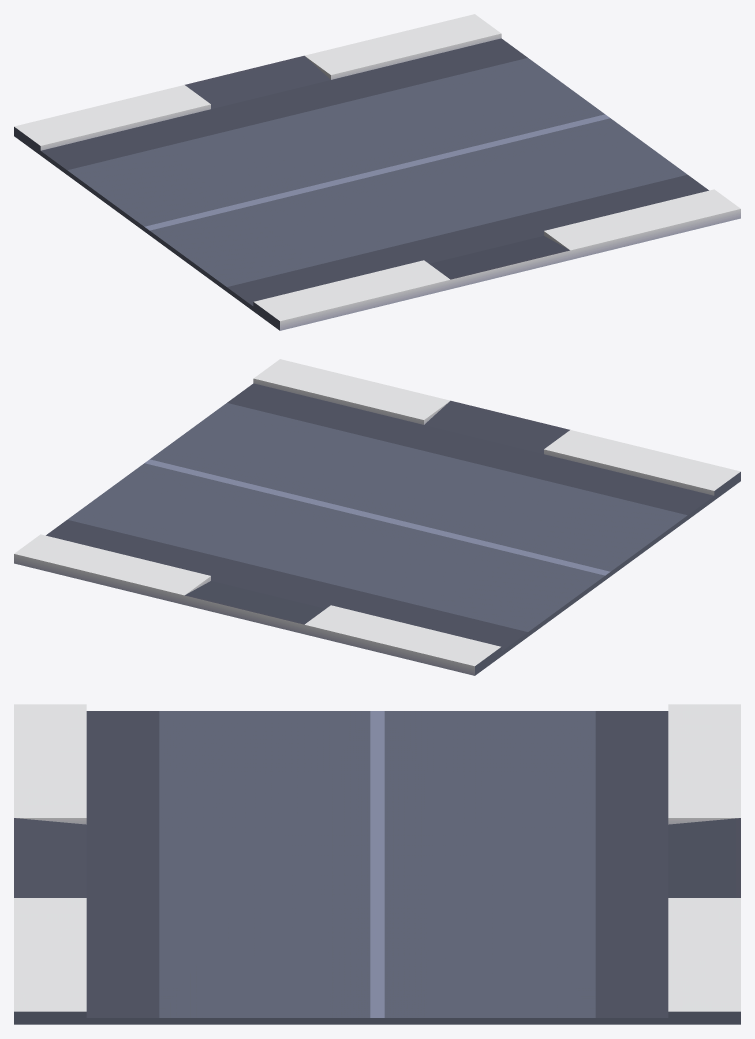
The model's file is road-driveway-double.glb.
3 views of the same model, one above another, from view 1: azimuth 30°, elevation 25°; view 2: azimuth 150°, elevation 25°; view 3: azimuth 270°, elevation 25° (orthographic). The views are drawn at different scales.
Visible parts, largest first — view 1: road-driveway-double; view 2: road-driveway-double; view 3: road-driveway-double.
Boxes of the visible parts, x1,y1,x2,y2 form: road-driveway-double: [14, 14, 740, 330]; road-driveway-double: [14, 359, 740, 675]; road-driveway-double: [14, 704, 740, 1024].
Size of the model in its own units: 1 by 0.02 by 1.
1 material, 1 textured.
